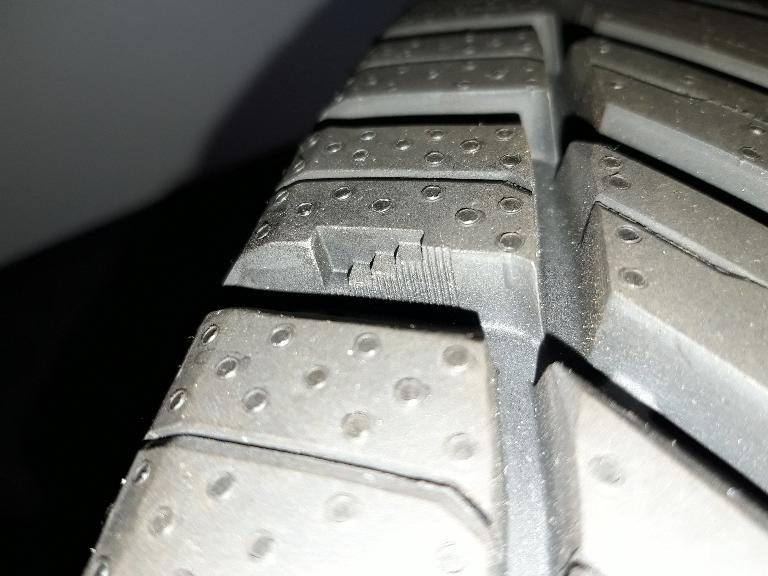temoin:100: (305, 220, 460, 318)
